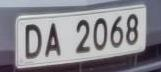0: (92, 14, 110, 56)
2: (74, 13, 93, 61)
6: (108, 12, 125, 53)
8: (123, 11, 141, 50)
A: (44, 17, 64, 64)
D: (22, 20, 44, 62)
